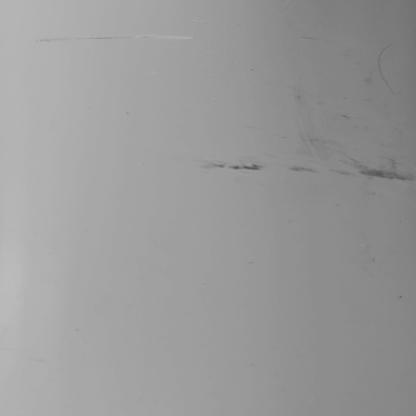sunshang: (33, 33, 193, 43), (372, 41, 402, 94)
